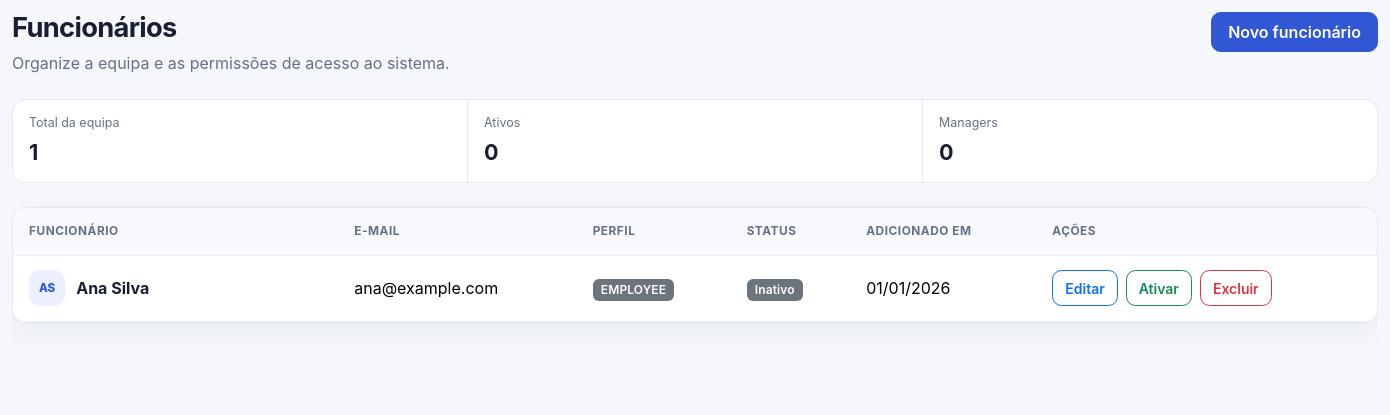
Test case: EmployeesPage › activates an employee
The image size is (1390, 415).
Expected: the table is shown, x1=13 y1=208 x2=1377 y2=322
Click the button "Ativar".
click(1159, 288)  # box x1=1126 y1=270 x2=1192 y2=306
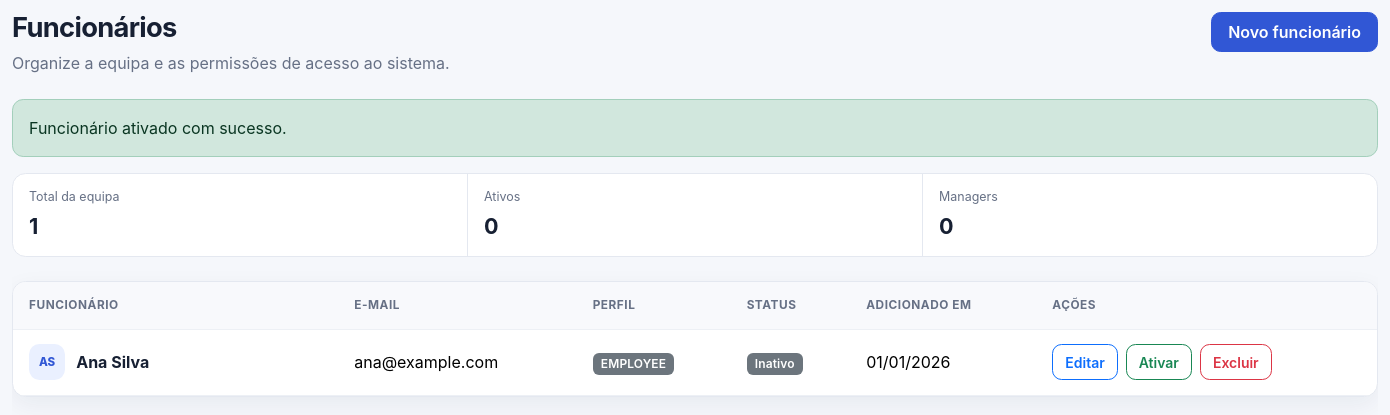
Result: the text "Funcionário ativado com sucesso." is shown at x1=12 y1=99 x2=1378 y2=157
